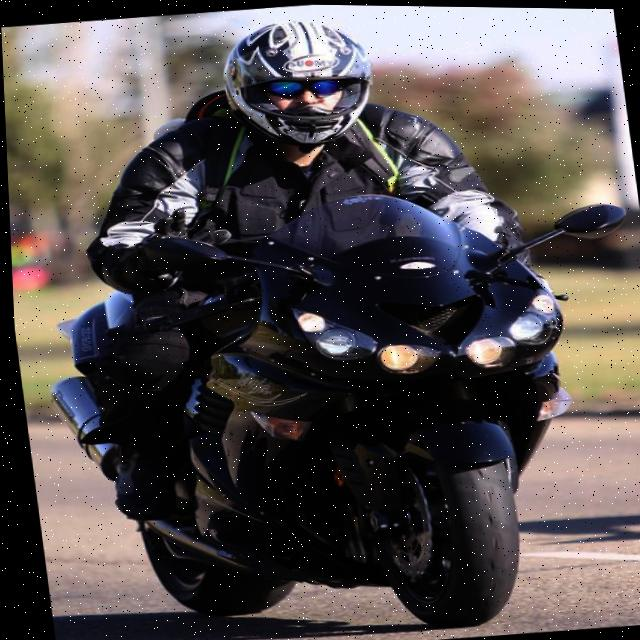motorcycle: (37, 68, 640, 640)
